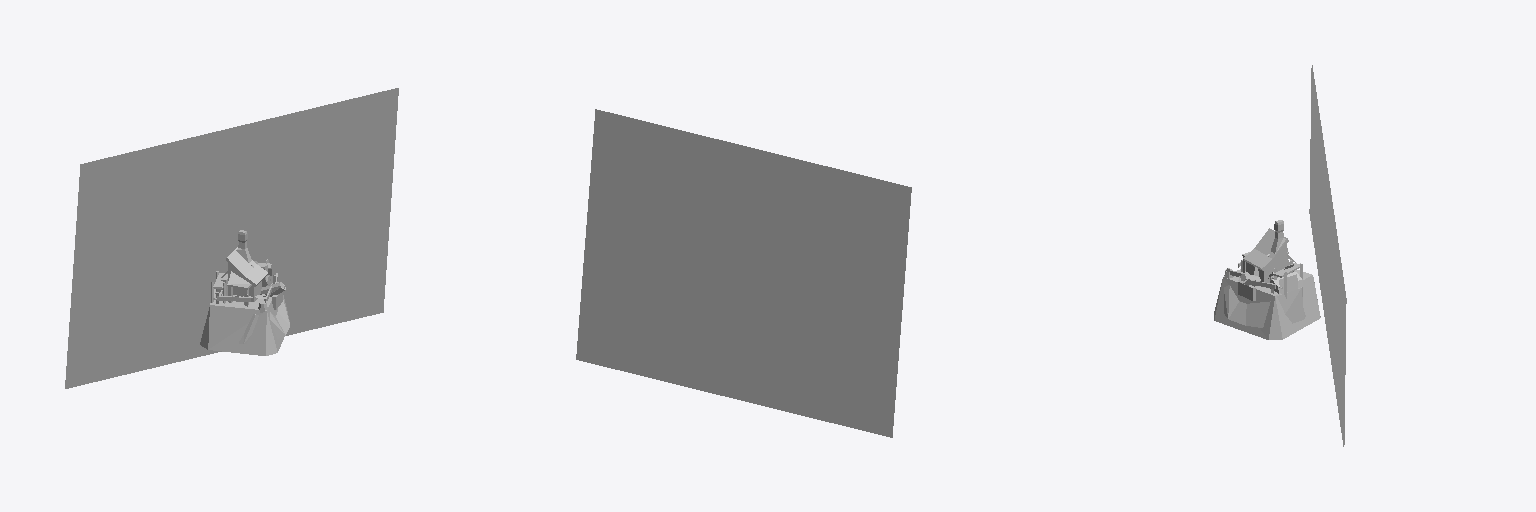
Rendered from HumanLumberMill.obj.
The picture shows the model from 3 angles: view 1: azimuth 30°, elevation 25°; view 2: azimuth 150°, elevation 25°; view 3: azimuth 270°, elevation 25°; orthographic projection.
Parts seen in each view (by area): view 1: Mesh14, Mesh04, Mesh01, Mesh02, Mesh10; view 2: Mesh14; view 3: Mesh14, Mesh04, Mesh10, Mesh01, Mesh02.
Boxes of the visible parts, <box> form: Mesh14: <box>65,88,398,388</box>; Mesh04: <box>200,282,289,355</box>; Mesh01: <box>215,230,285,312</box>; Mesh02: <box>227,247,267,287</box>; Mesh10: <box>239,300,289,343</box>; Mesh14: <box>576,109,911,437</box>; Mesh14: <box>1309,65,1346,446</box>; Mesh04: <box>1214,269,1320,339</box>; Mesh10: <box>1224,285,1305,327</box>; Mesh01: <box>1224,220,1302,300</box>; Mesh02: <box>1242,228,1295,268</box>.
Size of the model in its own units: 1208 by 861 by 436.